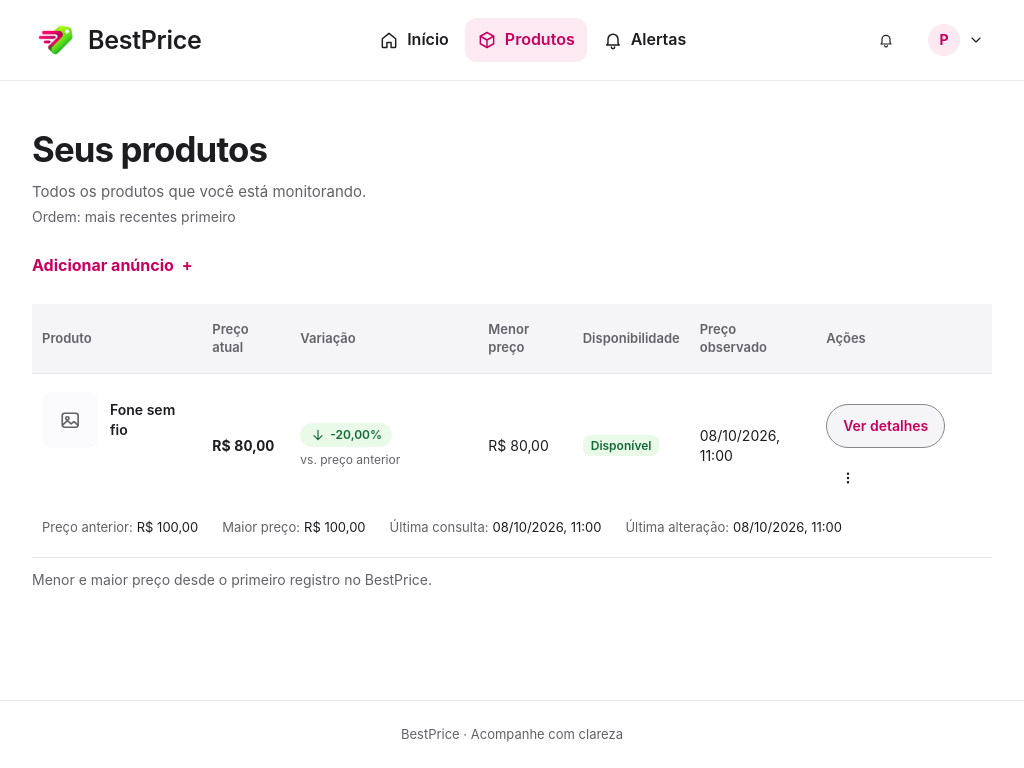
painel do sino › informa quando não há não lidas
Click the button named "Notificações" in the row of "Alertas": (886,40) [864,18,908,62]
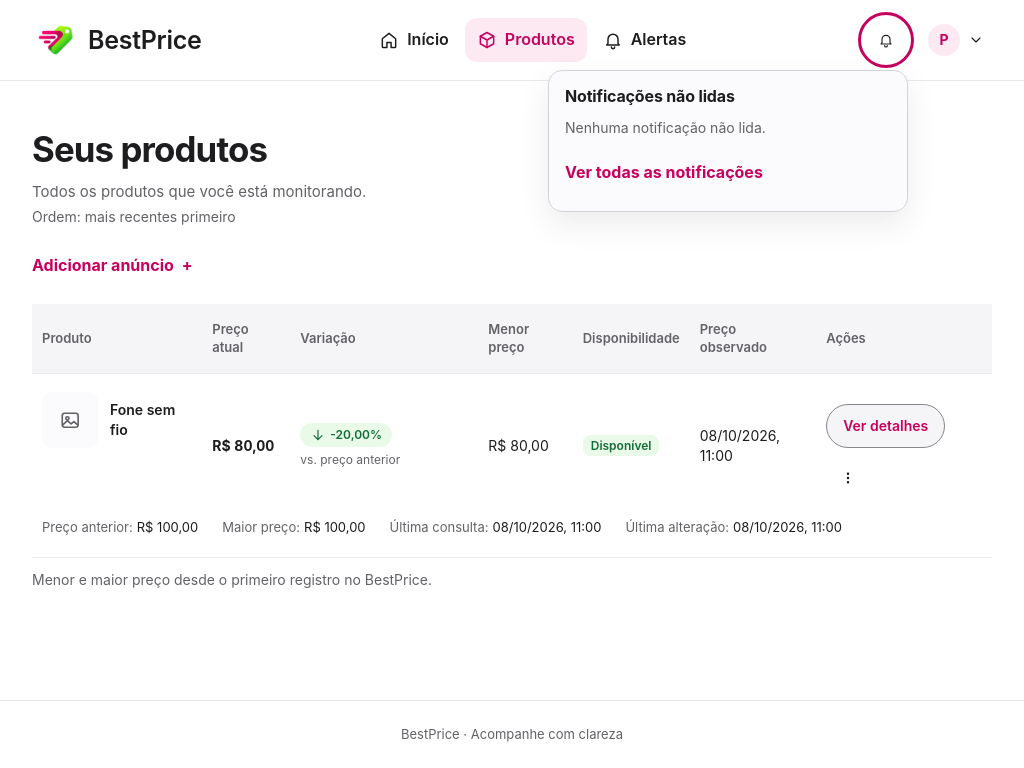
Now the text "Nenhuma notificação não lida." is shown, box [565,119,766,136]
